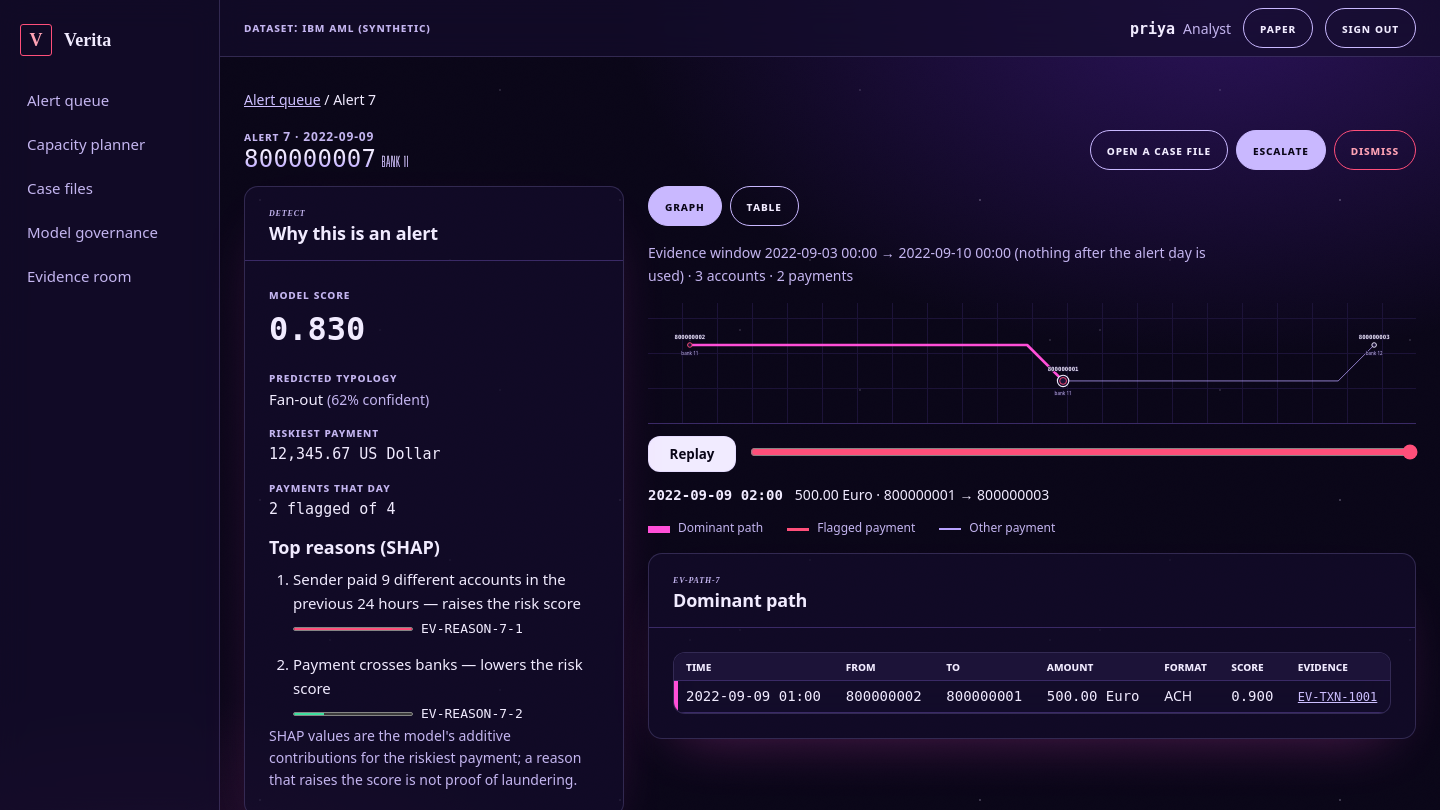
Scenario: escalates with a reason
Click the button "Escalate": (1281, 150) 1236,130 -> 1326,170
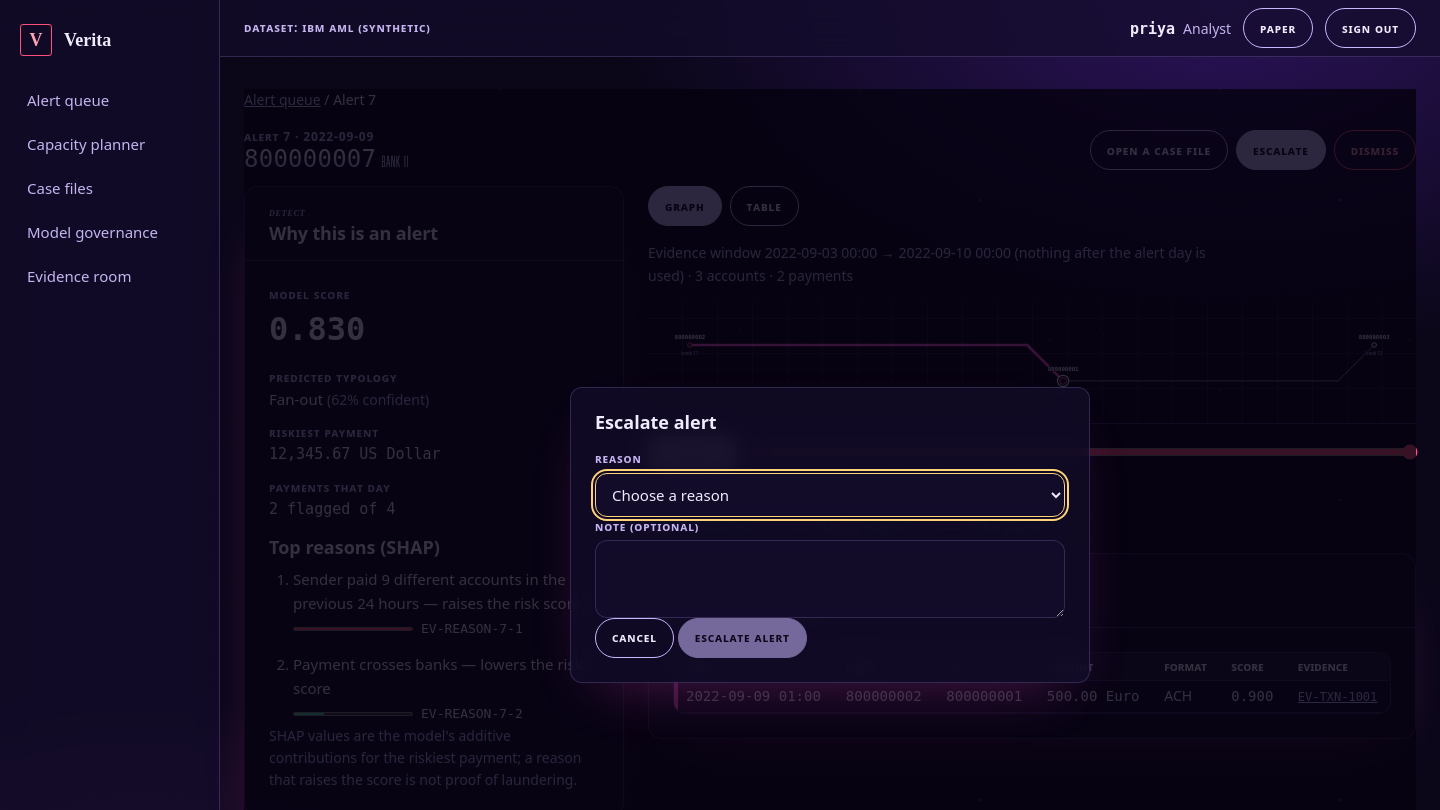
Select "Matches a known laundering typology" in the dropdown labelled "Reason": (830, 495) 595,473 -> 1065,517
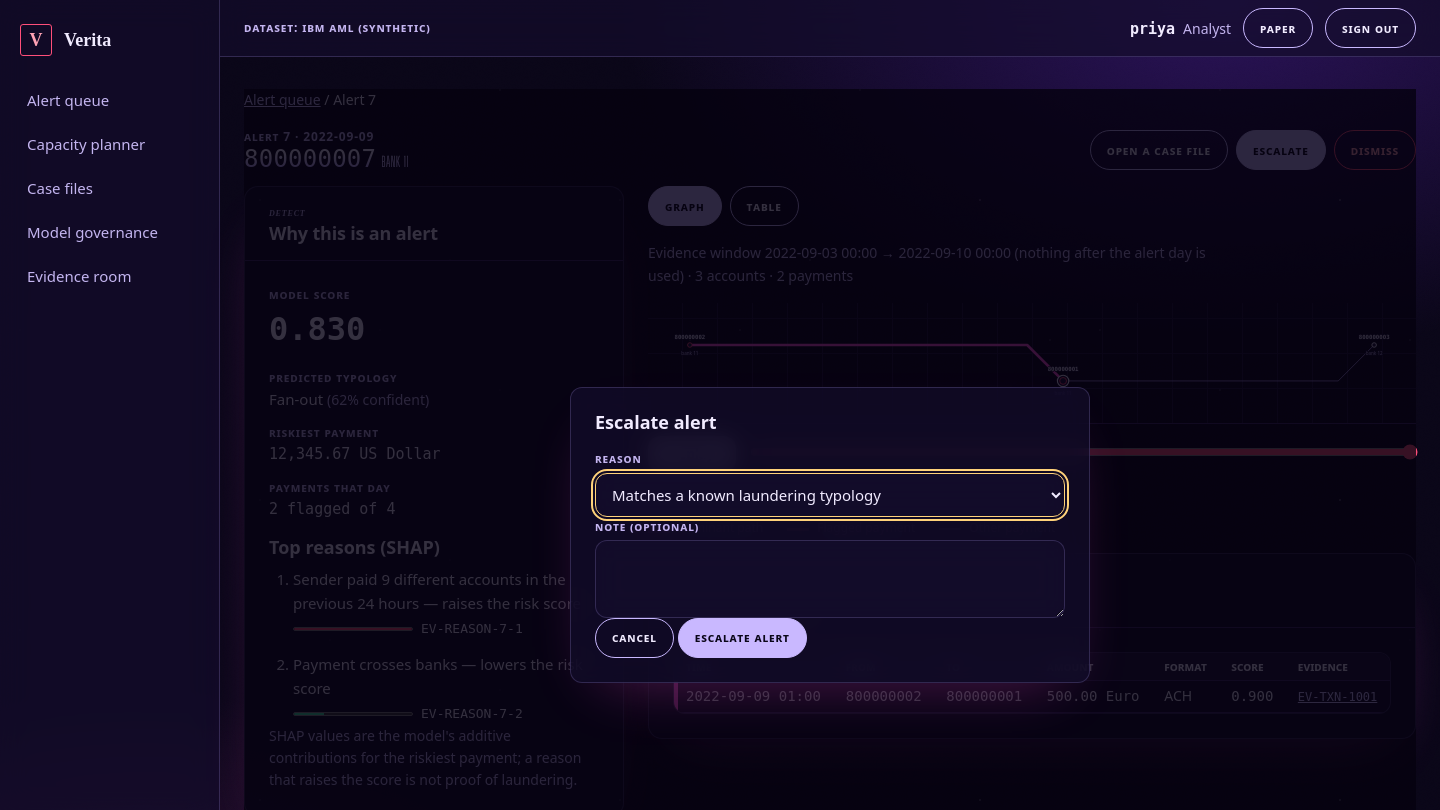
Click the button "Escalate alert": (742, 638) 678,618 -> 807,658
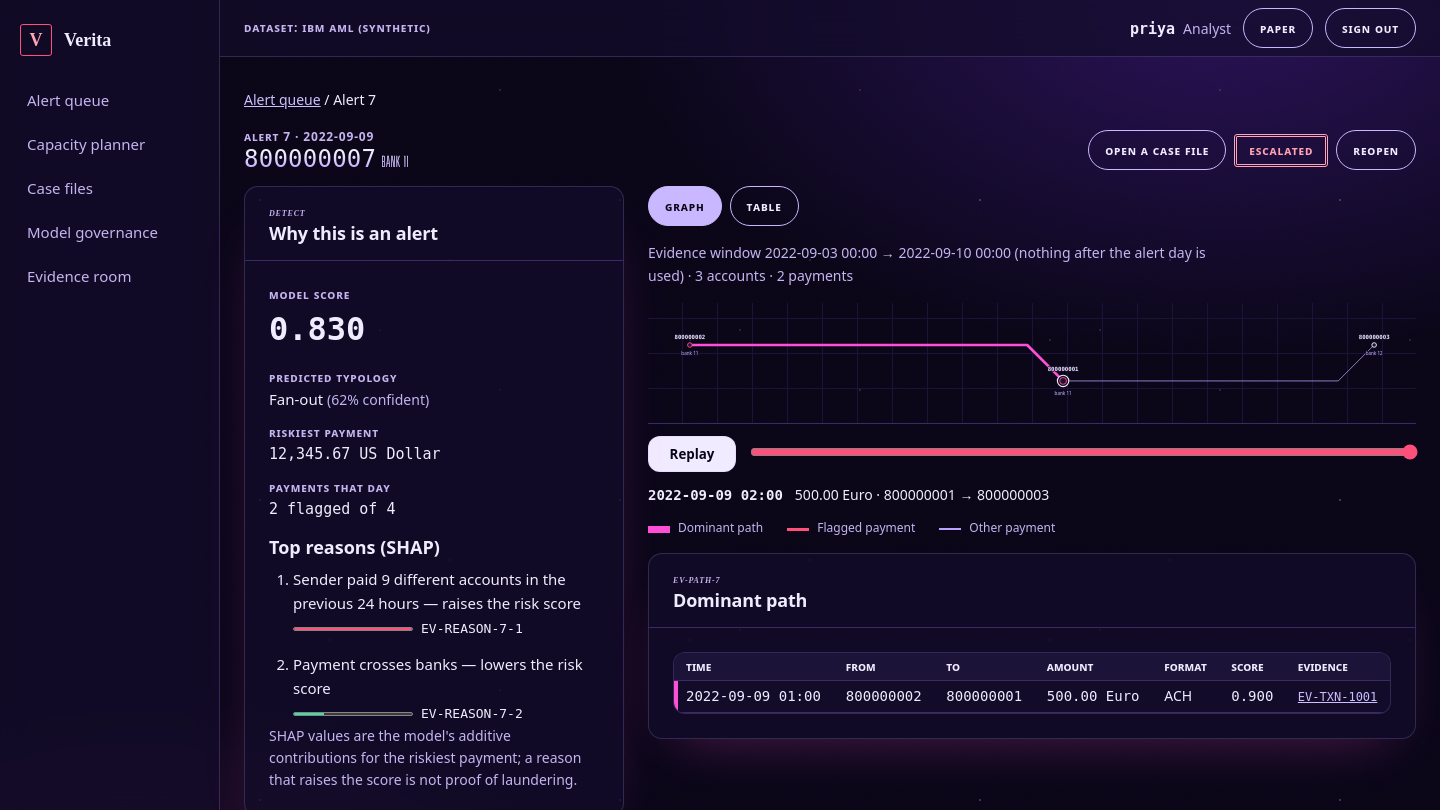
Expected: the text "escalated" is shown, 1234,134 -> 1328,167
